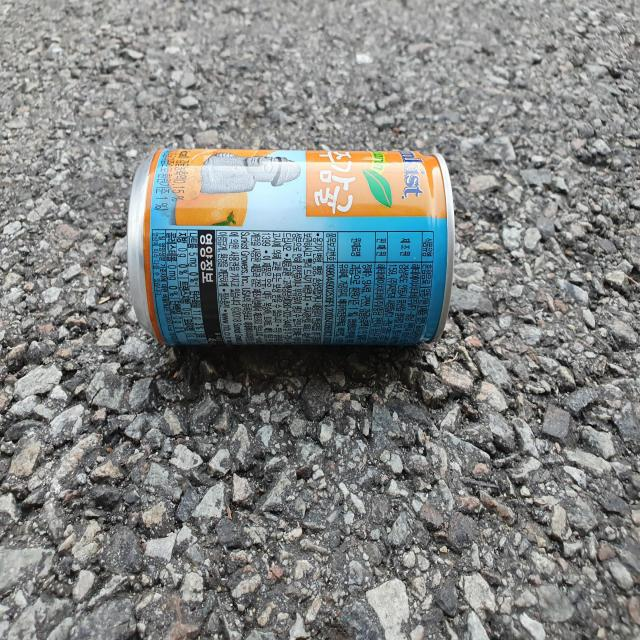can: (127, 148, 455, 345)
